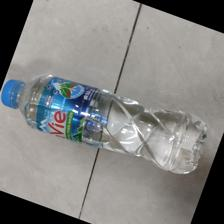Lavie: (1, 72, 209, 176)
